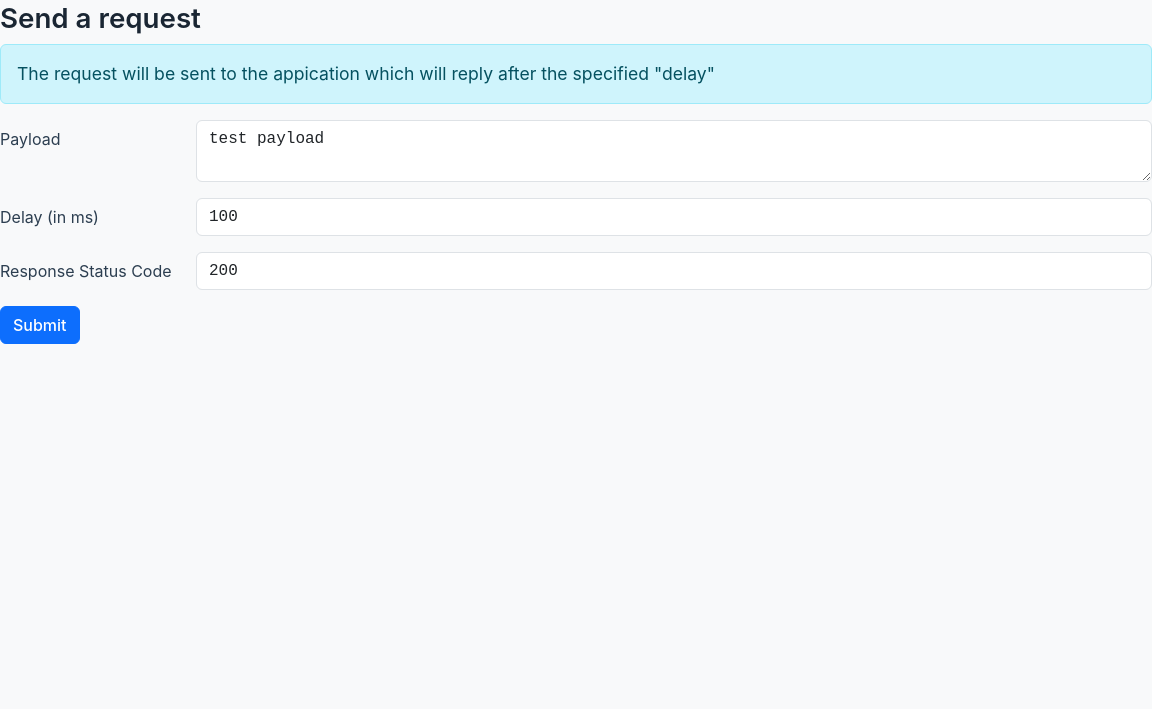
Scenario: MainForm › submits form successfully
The image size is (1152, 709).
Click the button "Submit": [40, 325] box [0,306,80,344]
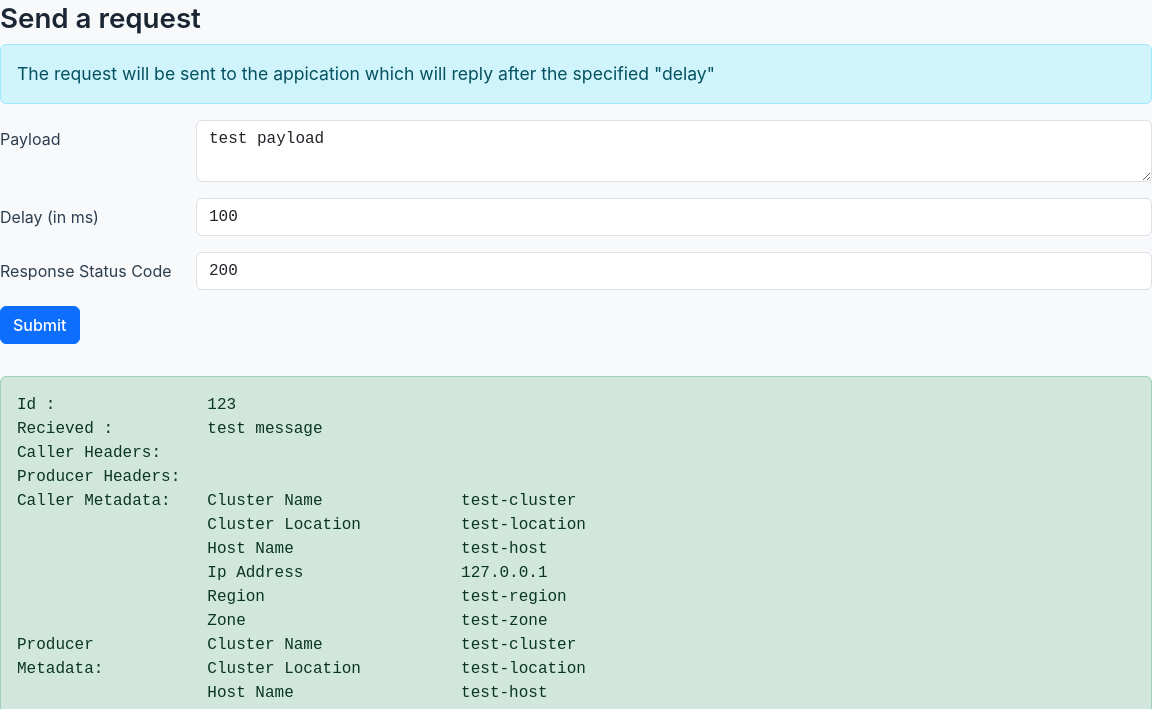
Now the text "123" is shown, box [207,396,236,414]
Now the text "test message" is shown, box [207,420,322,438]
